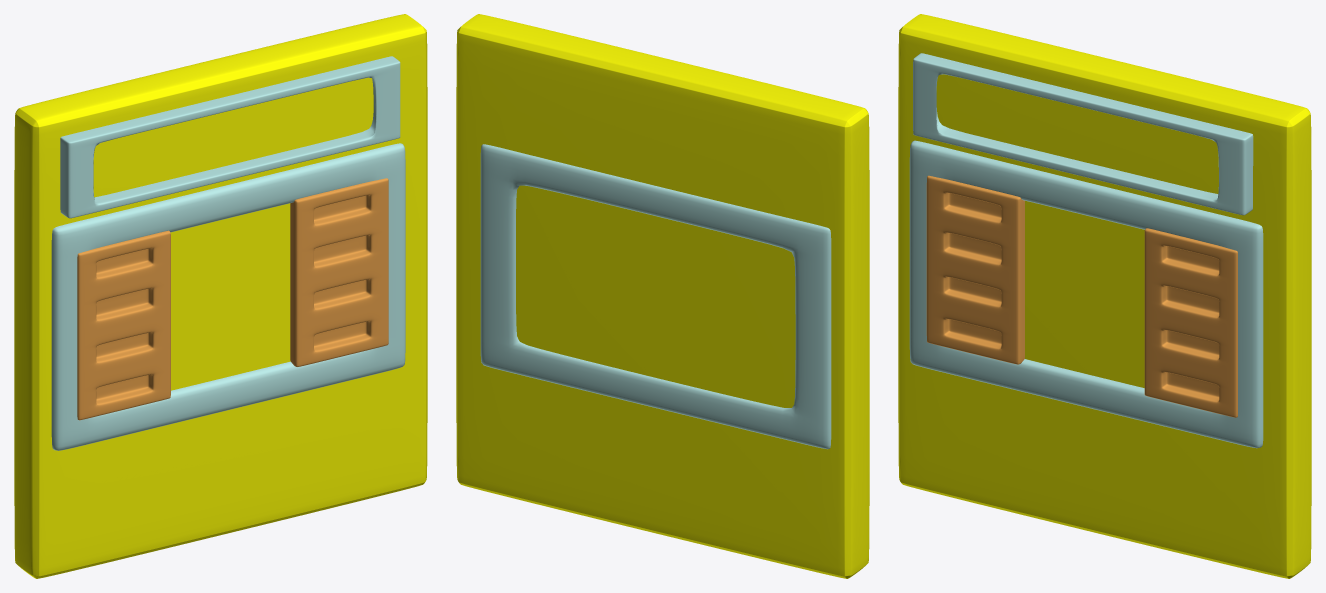
3 views of the same model, side by side, from view 1: azimuth 30°, elevation 25°; view 2: azimuth 150°, elevation 25°; view 3: azimuth 330°, elevation 25° (orthographic).
Visible parts, largest first — view 1: polySurface143777; view 2: polySurface143777; view 3: polySurface143777.
Part boxes in pixels (x1=…): polySurface143777: x1=14, y1=14, x2=427, y2=578; polySurface143777: x1=456, y1=14, x2=869, y2=578; polySurface143777: x1=898, y1=14, x2=1311, y2=578.
Size of the model in its own units: 0.8996 by 0.9995 by 0.1395.
